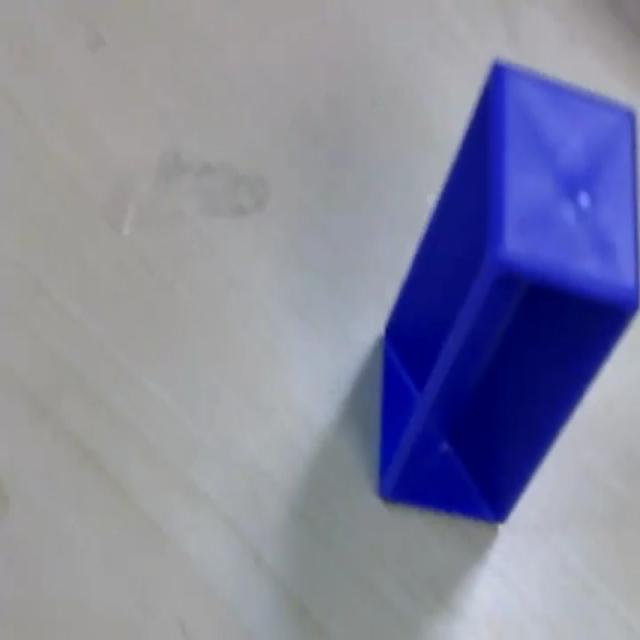blue_block: (377, 55, 638, 524)
